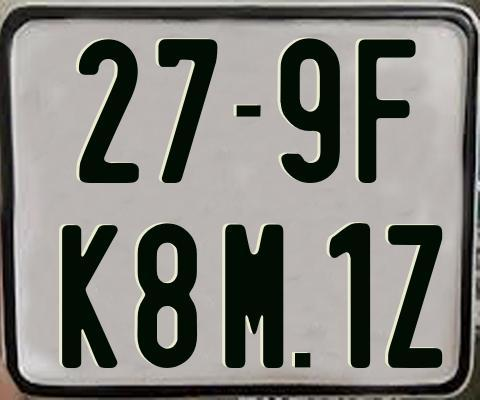1: (326, 223, 368, 373)
2: (77, 38, 139, 182)
7: (157, 37, 223, 181)
8: (136, 222, 200, 370)
9: (279, 36, 343, 186)
F: (358, 39, 418, 184)
K: (60, 224, 118, 367)
M: (223, 224, 286, 369)
Z: (387, 222, 441, 365)
